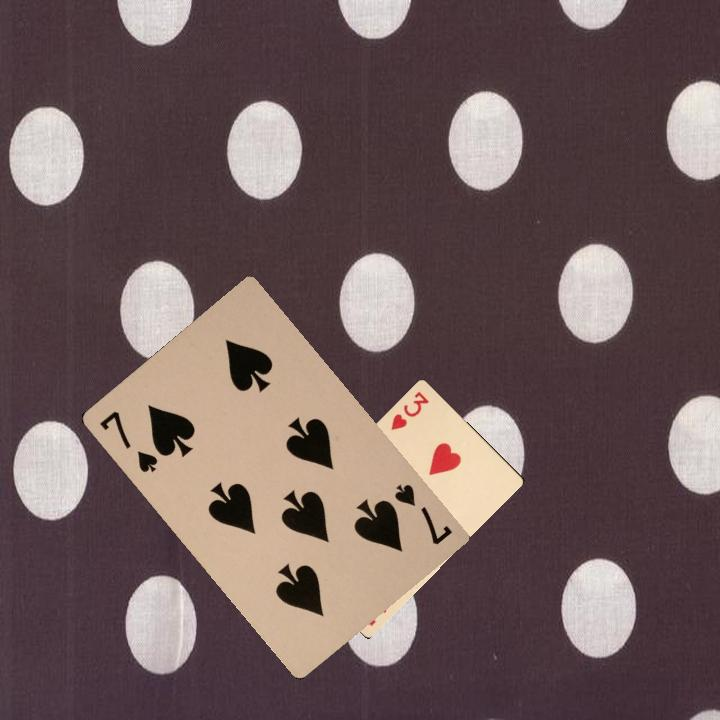3h: (386, 387, 431, 433)
7s: (95, 406, 161, 475), (390, 480, 455, 548)
